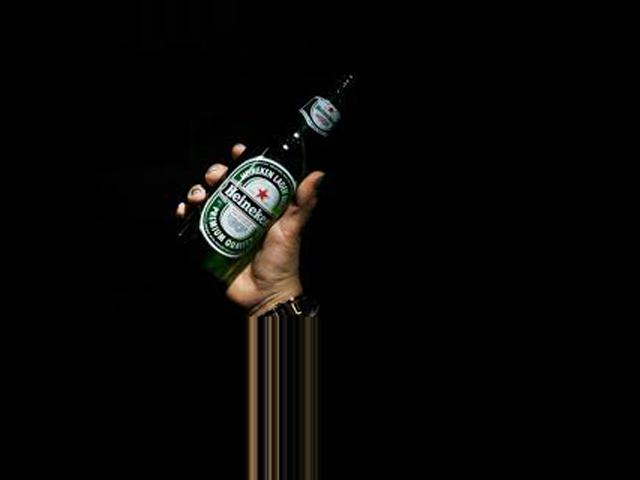beer: (170, 66, 360, 291)
